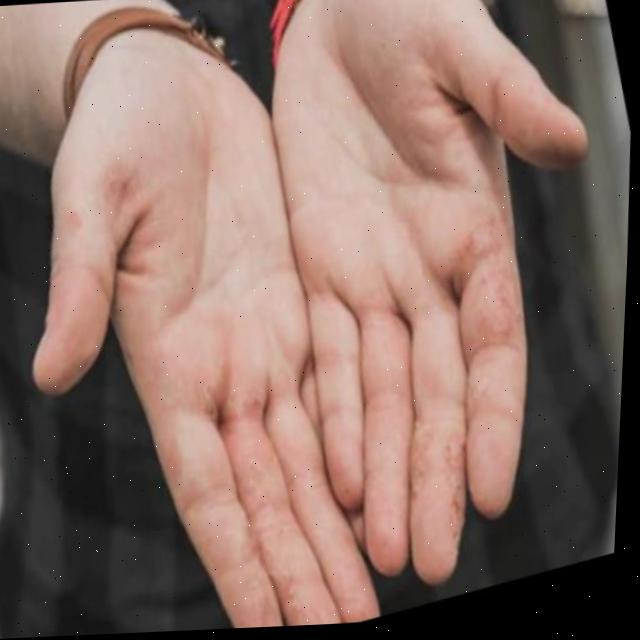Eczema: (116, 92, 517, 585)
